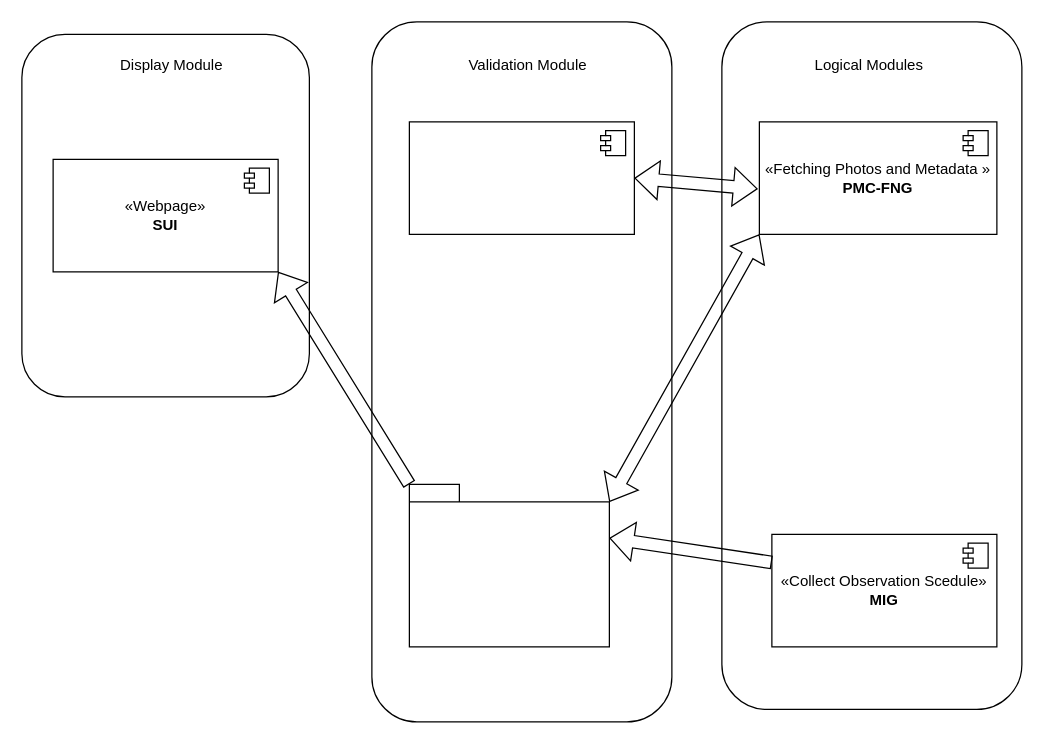
Image size: 1044x744. Some labels were removed from this diagram. The centre of each missing label's shape, as x and y in pixels:
Shared Folder: point (508, 565)
«Test Module» Mastv: point (521, 177)
